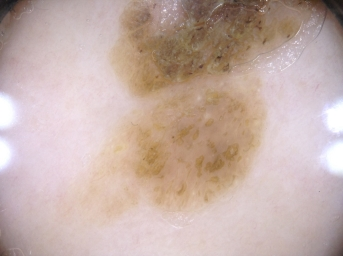seborrheic keratosis: (72, 3, 326, 213)
